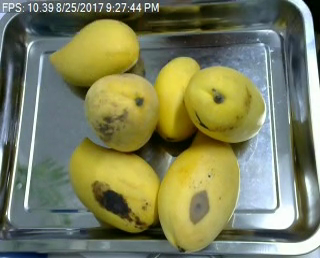Mango: (156, 128, 239, 253), (70, 136, 163, 230), (184, 67, 268, 143), (48, 19, 141, 87), (85, 75, 159, 154), (152, 55, 202, 144)
